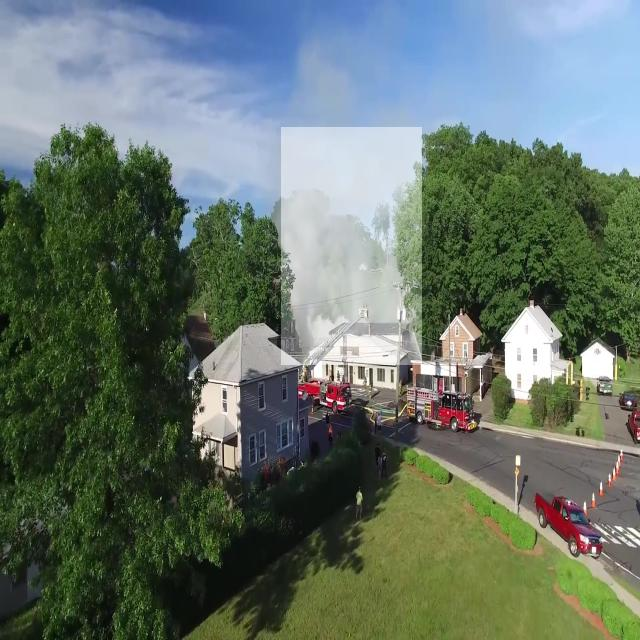Smoke: (281, 127, 422, 365)
